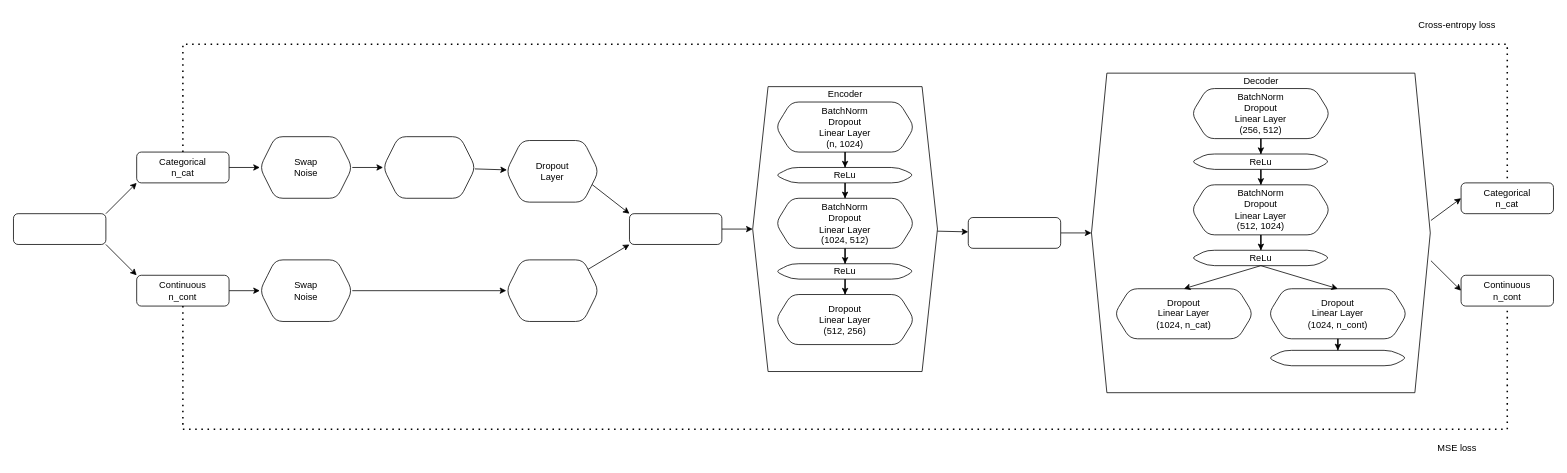
The diagram is 1567 pixels wide and 473 high, and some of its shapes have lost their labels. The centre of each missing label's shape, as x and y in pixels:
BatchNorm Layer: the point at 552,290
Embedding Layer: the point at 428,167
Encoded Data 256: the point at 1014,232
Input: the point at 59,228
Input size=n: the point at 675,228
Sigmoid: the point at 1337,358
